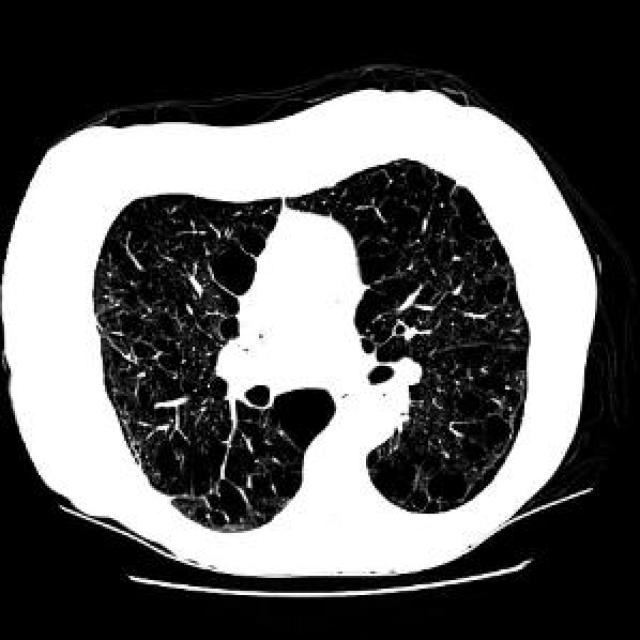Tumor: (370, 386, 404, 427)
